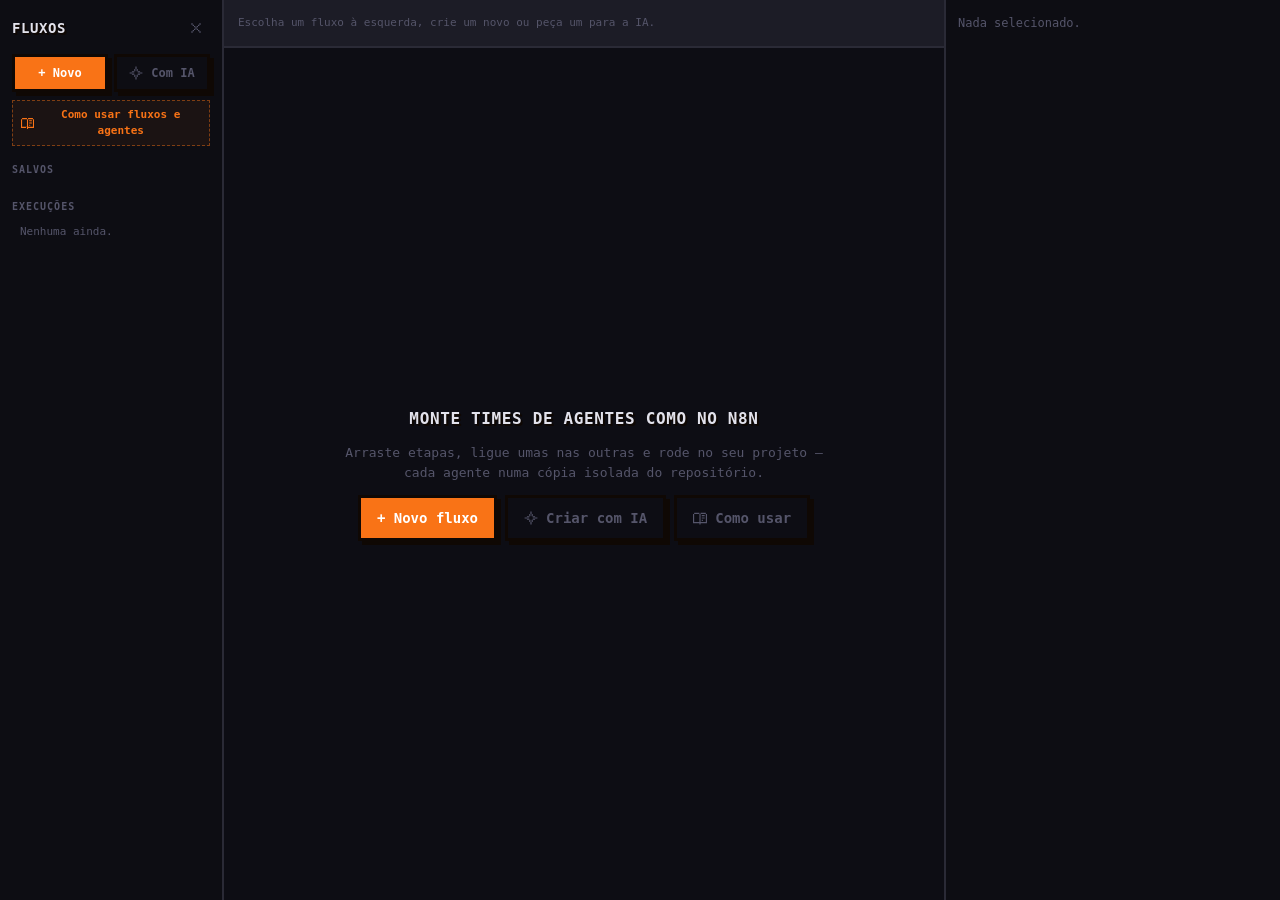
Test: cria um fluxo, altera nome e descrição e salva
Click the button "+ Novo fluxo" at point(428, 518), box [358,495,497,541]
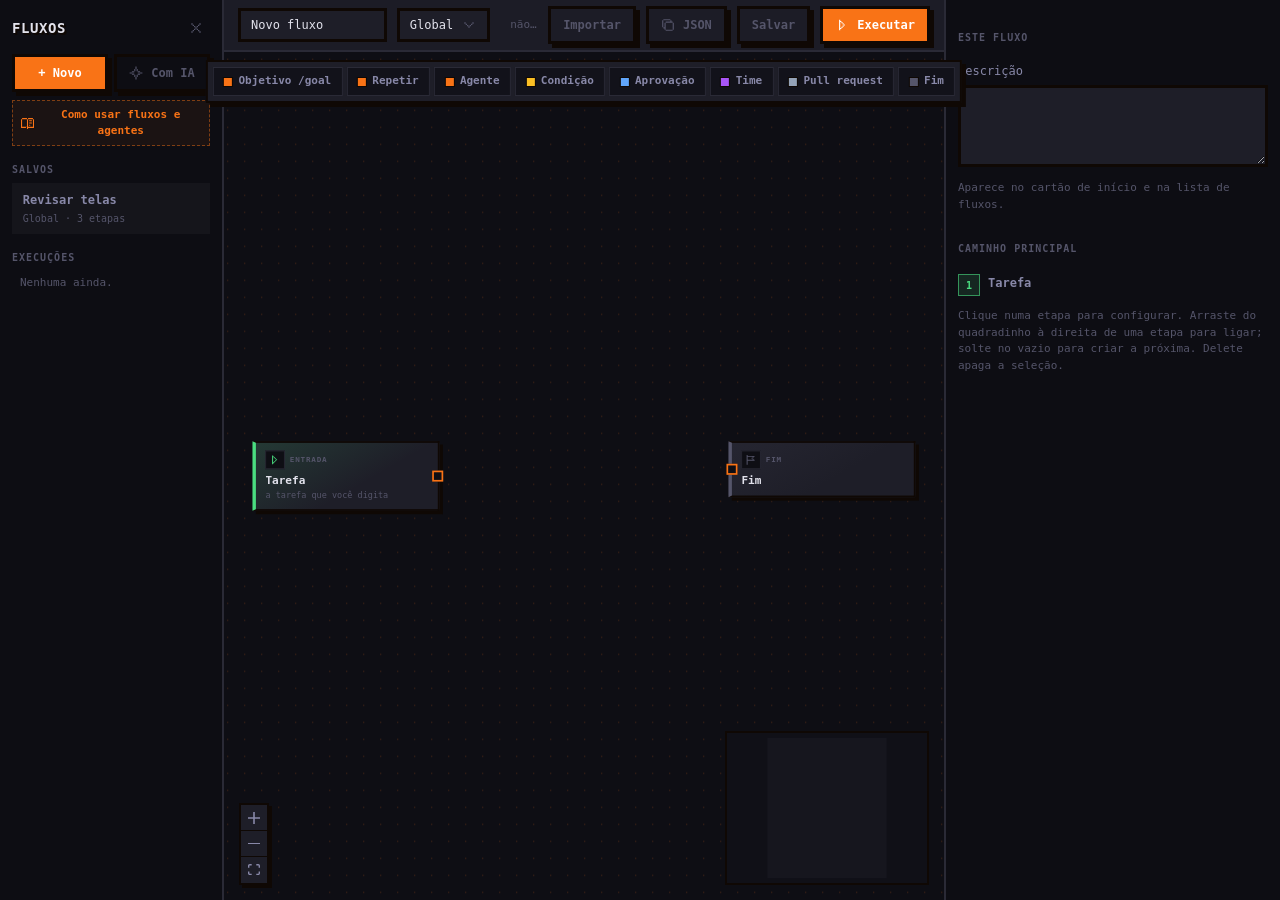
Replace the text in the field named "Nome do fluxo" with "Meu processo" at point(312, 25), box [238,8,387,42]
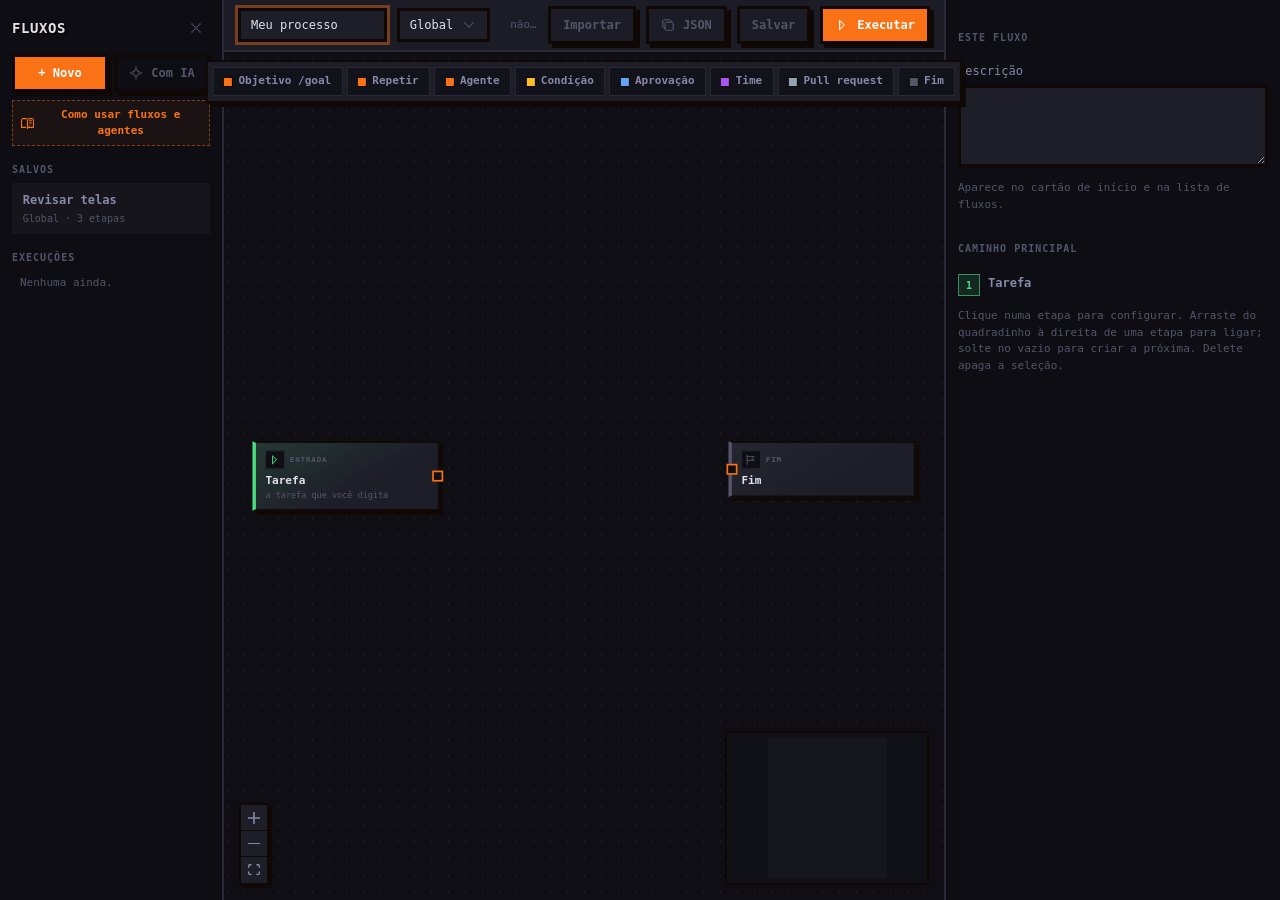
Type "Revisão local" into the text box labelled "Descrição" at point(1113, 126), box [958,85,1268,167]
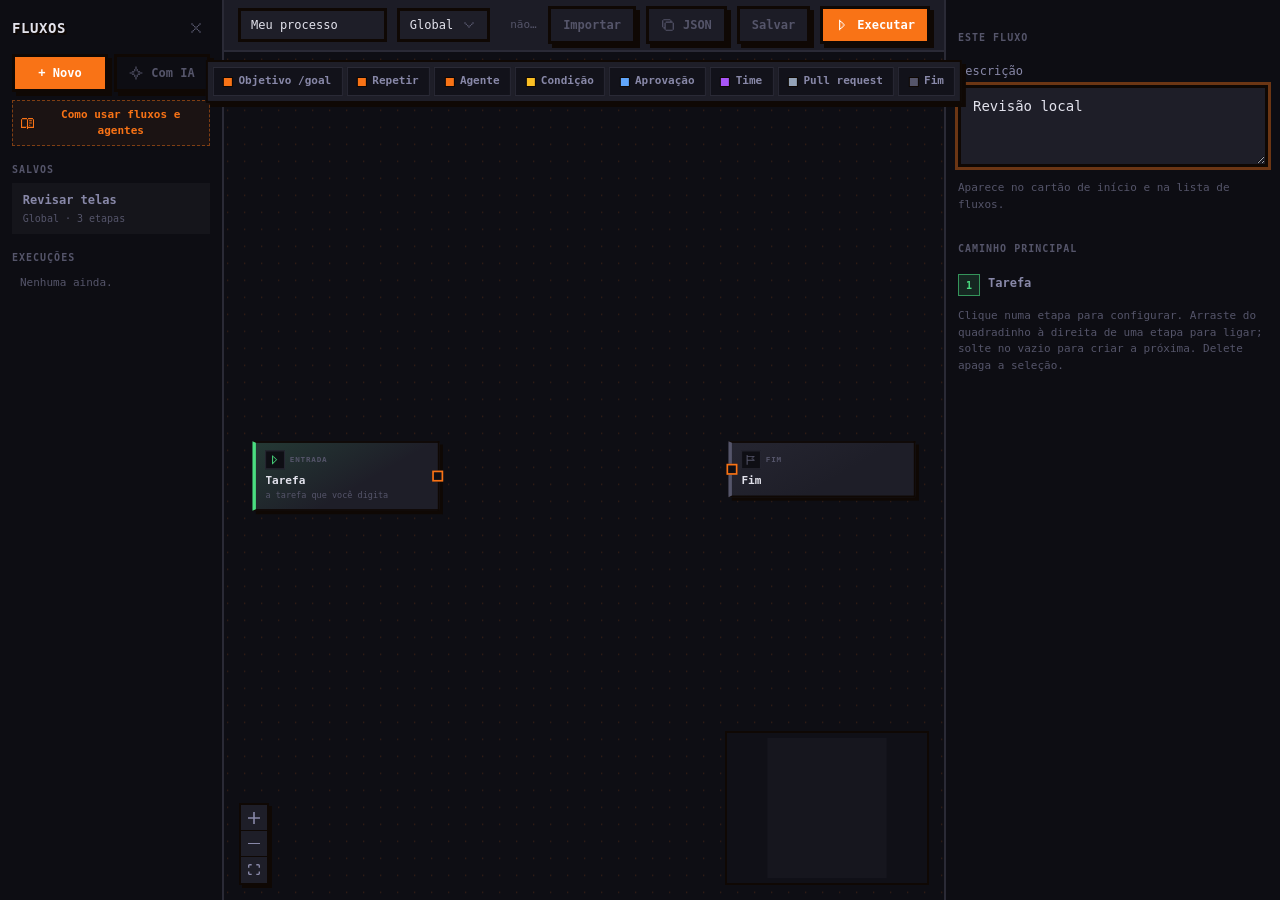
Click the button "Salvar" at point(774, 25), box [737,6,810,44]
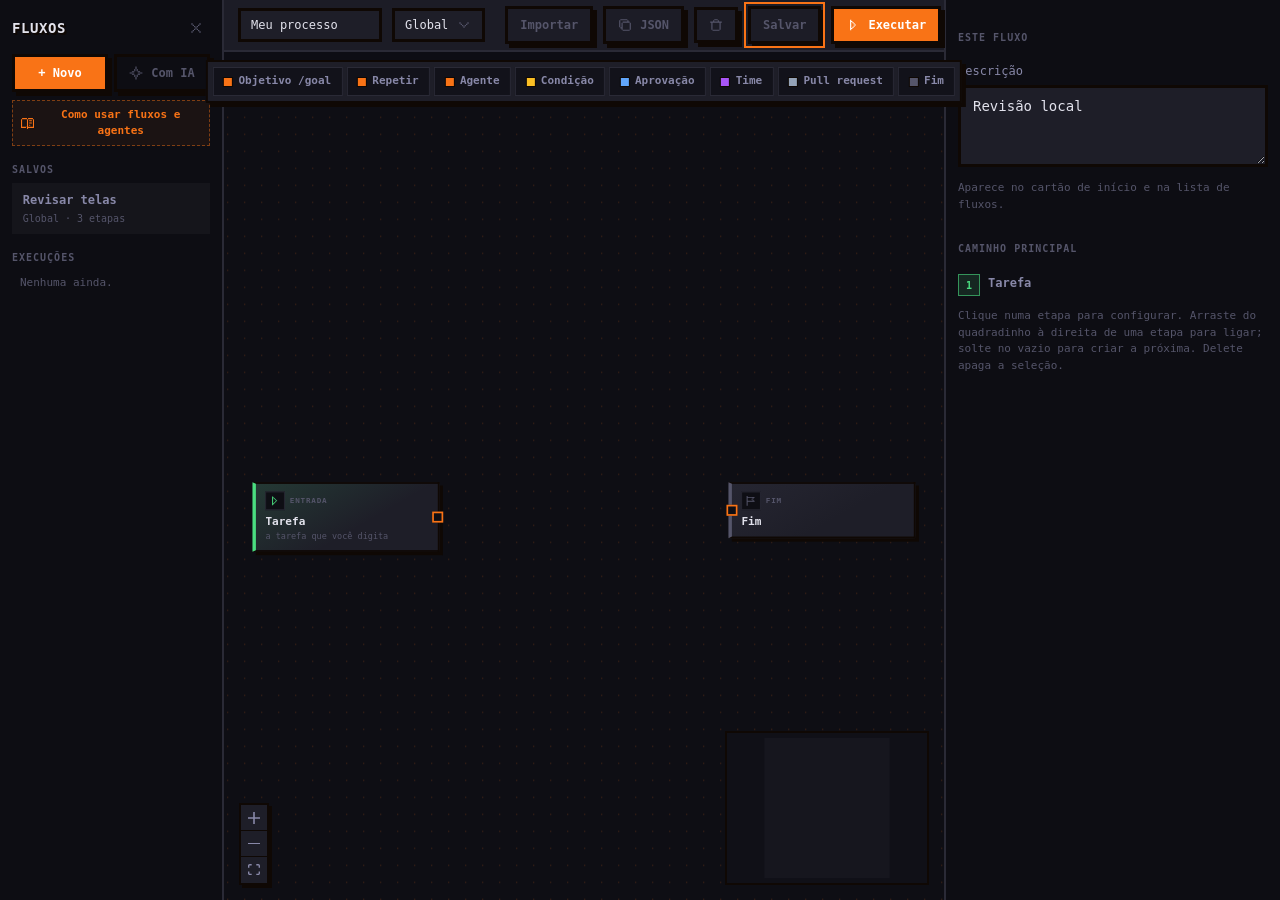
Expected: the text "não salvo" is gone
